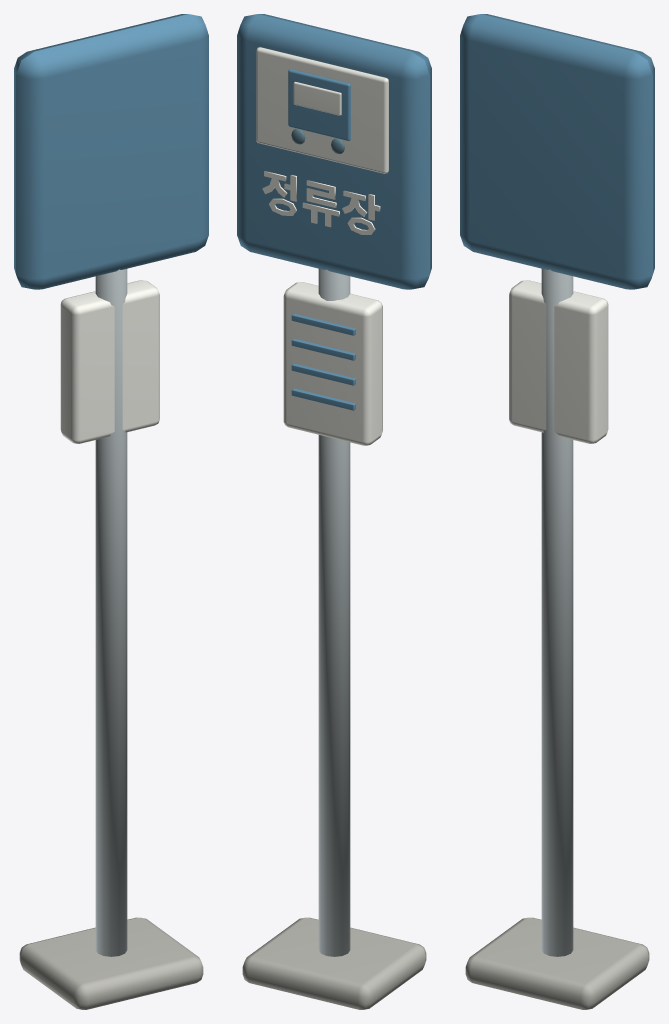
The model's file is service-stop-sign.glb.
3 renders of one model, left to right at view 1: azimuth 30°, elevation 25°; view 2: azimuth 150°, elevation 25°; view 3: azimuth 330°, elevation 25°, orthographic.
Parts seen in each view (by area): view 1: Stop board, Sign pole, Route information, Sign footing; view 2: Stop board, Sign pole, Route information, Sign footing, Bus icon panel, 정류장 팻말, Bus front icon, Bus window, Route stripe, Route stripe.003, Route stripe.001, Route stripe.002; view 3: Stop board, Sign pole, Route information, Sign footing.
Part boxes in pixels (x1,y1,x2,y2): Stop board: (14,14,208,289); Sign pole: (95,269,127,956); Route information: (60,280,159,443); Sign footing: (19,917,203,1009); Stop board: (237,14,431,289); Sign pole: (318,269,350,956); Route information: (283,282,382,445); Sign footing: (242,917,426,1009); Bus icon panel: (256,47,388,173); 정류장 팻말: (262,171,380,234); Bus front icon: (288,69,350,140); Bus window: (293,81,341,115); Route stripe: (291,313,355,335); Route stripe.003: (291,388,355,410); Route stripe.001: (291,338,355,360); Route stripe.002: (291,363,355,385); Stop board: (460,14,654,289); Sign pole: (541,269,573,956); Route information: (509,280,608,443); Sign footing: (465,917,649,1009).
Size of the model in its own units: 0.52 by 2.46 by 0.3.
